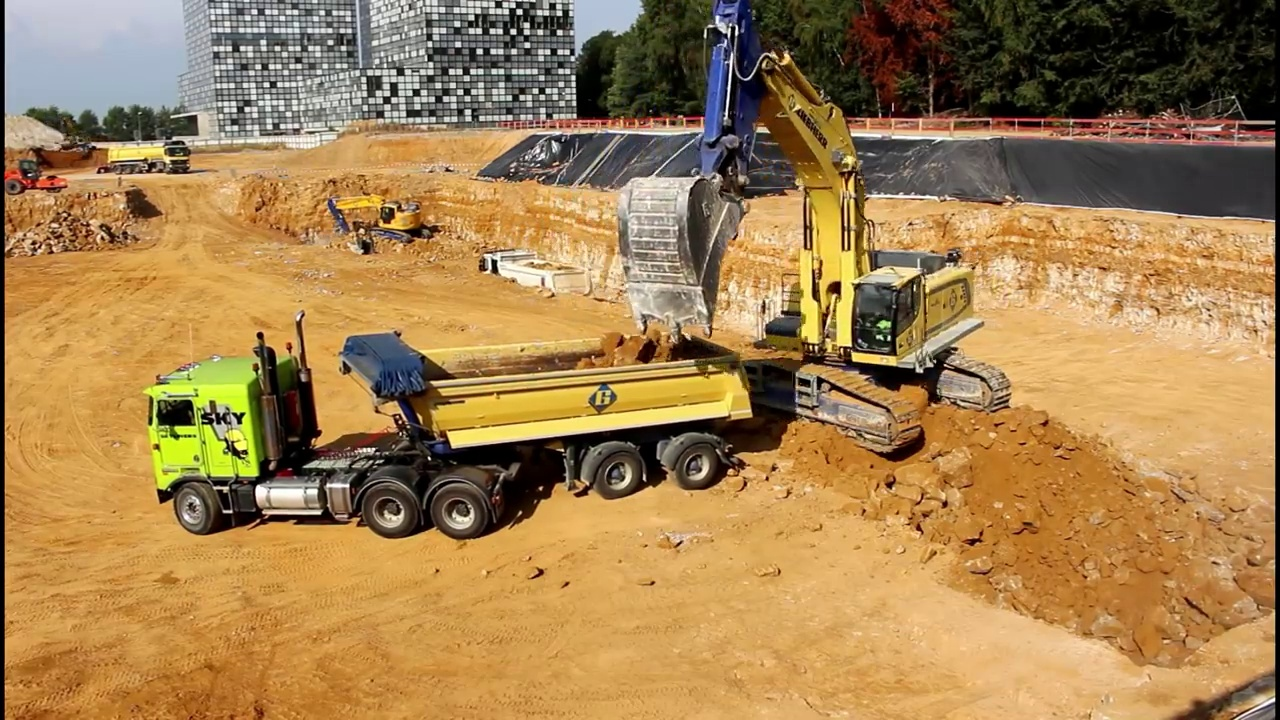compactor: (4, 157, 71, 199)
excavator: (611, 1, 1012, 461), (322, 190, 443, 262), (56, 114, 111, 158)
truck: (136, 307, 760, 547), (476, 243, 598, 328), (101, 136, 198, 175)
